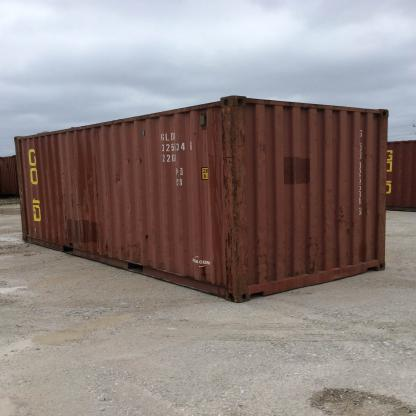Damage: (209, 112, 248, 292), (73, 167, 93, 252), (54, 185, 73, 250), (252, 239, 274, 283), (303, 238, 327, 277), (335, 205, 358, 241), (92, 156, 103, 226), (254, 140, 269, 188), (276, 239, 293, 279), (189, 130, 204, 164), (127, 242, 143, 262), (103, 240, 117, 257), (198, 260, 208, 283), (51, 158, 74, 168), (116, 245, 127, 258), (124, 157, 144, 164), (112, 174, 124, 185), (146, 256, 157, 268), (362, 202, 370, 218), (363, 151, 374, 161), (375, 209, 381, 226), (143, 233, 152, 244), (156, 261, 167, 270), (294, 268, 302, 278), (126, 200, 132, 212), (165, 250, 174, 258), (186, 262, 194, 270), (174, 197, 186, 202), (137, 183, 144, 191), (180, 247, 187, 254), (137, 216, 145, 221), (105, 228, 113, 232)
